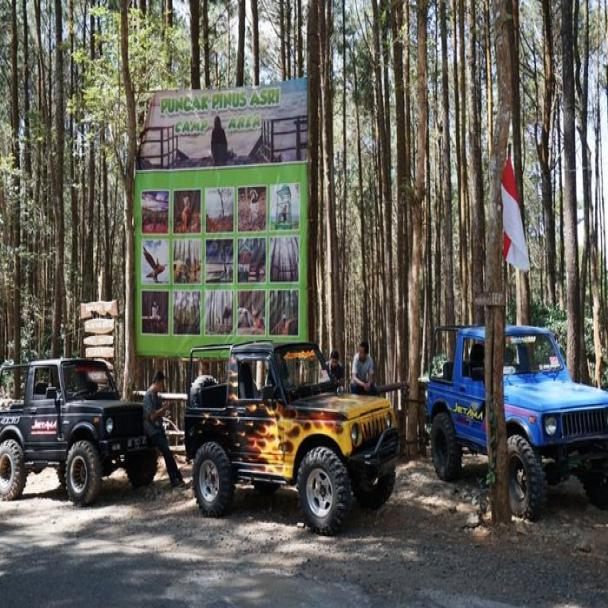Mobil: (186, 342, 400, 530), (424, 325, 607, 513), (0, 358, 152, 504)
